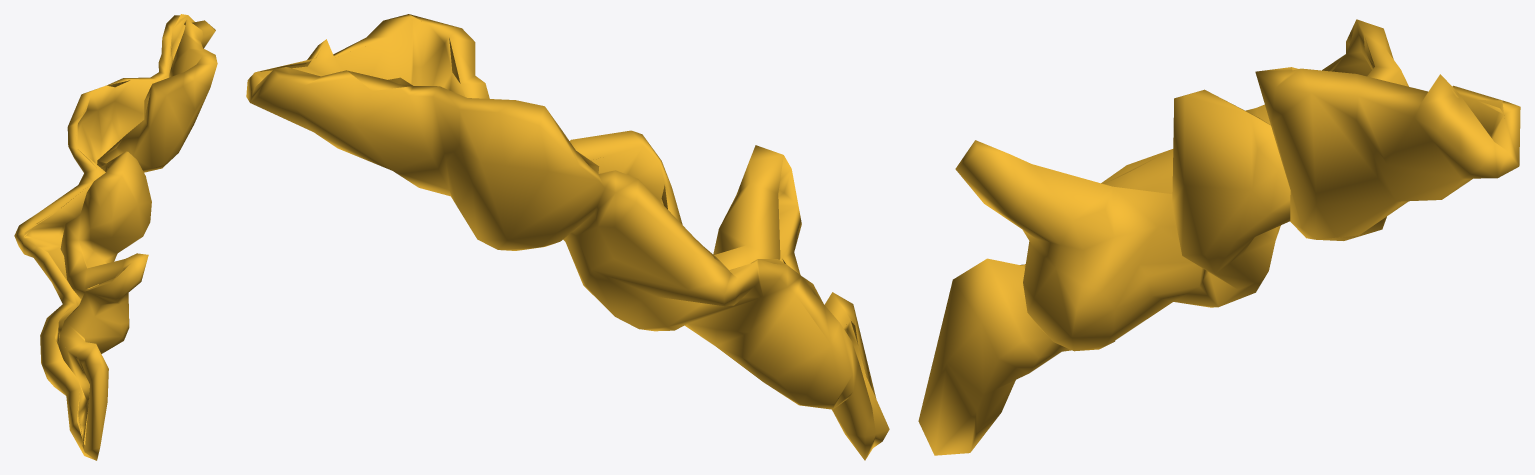
File: nervoso-central-sulcus-r.glb
The picture shows the model from 3 angles, left to right: view 1: azimuth 30°, elevation 25°; view 2: azimuth 150°, elevation 25°; view 3: azimuth 270°, elevation 25°; orthographic projection. The views are drawn at different scales.
Parts seen in each view (by area): view 1: Central sulcus.r; view 2: Central sulcus.r; view 3: Central sulcus.r.
Part boxes in pixels (x1,y1,x2,y2): Central sulcus.r: (14, 14, 217, 460); Central sulcus.r: (246, 14, 889, 460); Central sulcus.r: (918, 19, 1520, 455).
Size of the model in its own units: 0.0513 by 0.0527 by 0.0484.
